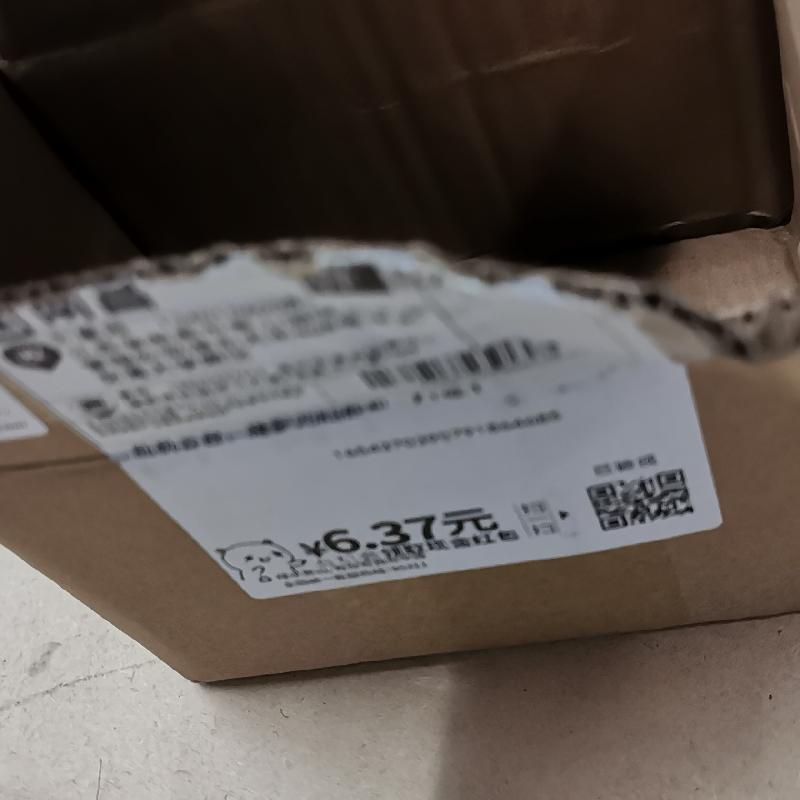boxes: (4, 8, 799, 799)
